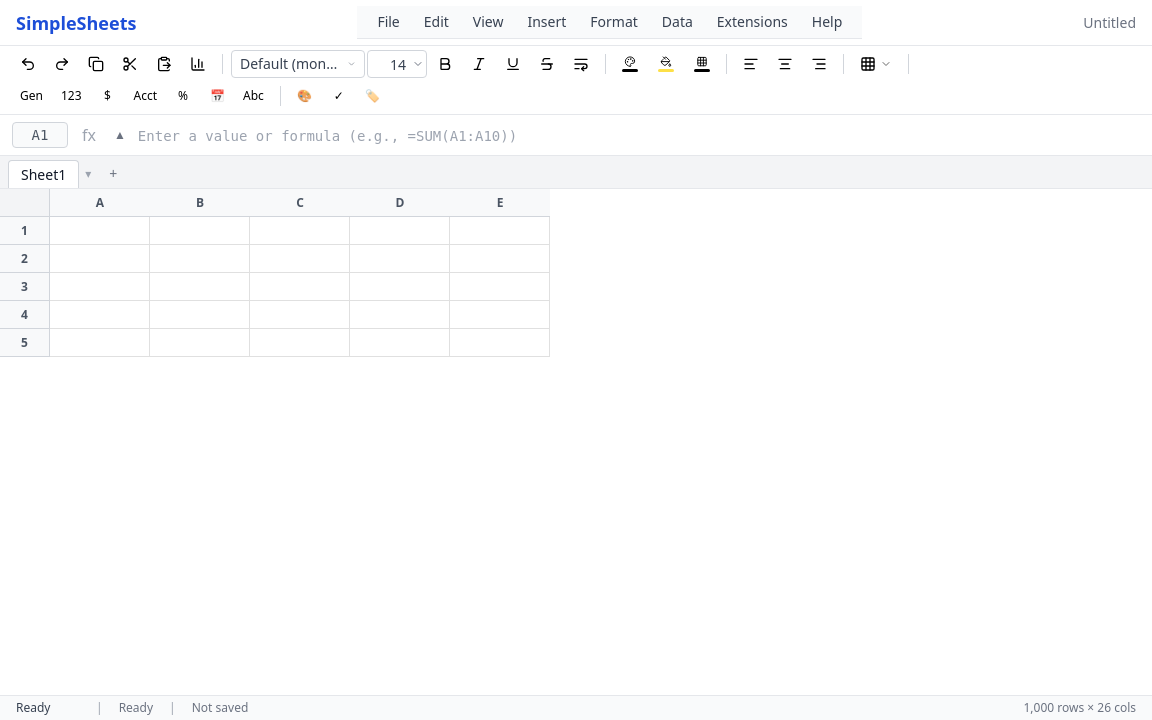
App - External Clipboard Paste › pastes plain text directly when clipboard has no HTML
Note: Select a cell
Press the mouse on the 1st element with class "grid-cell" at (100, 231), box [50,217,150,245]
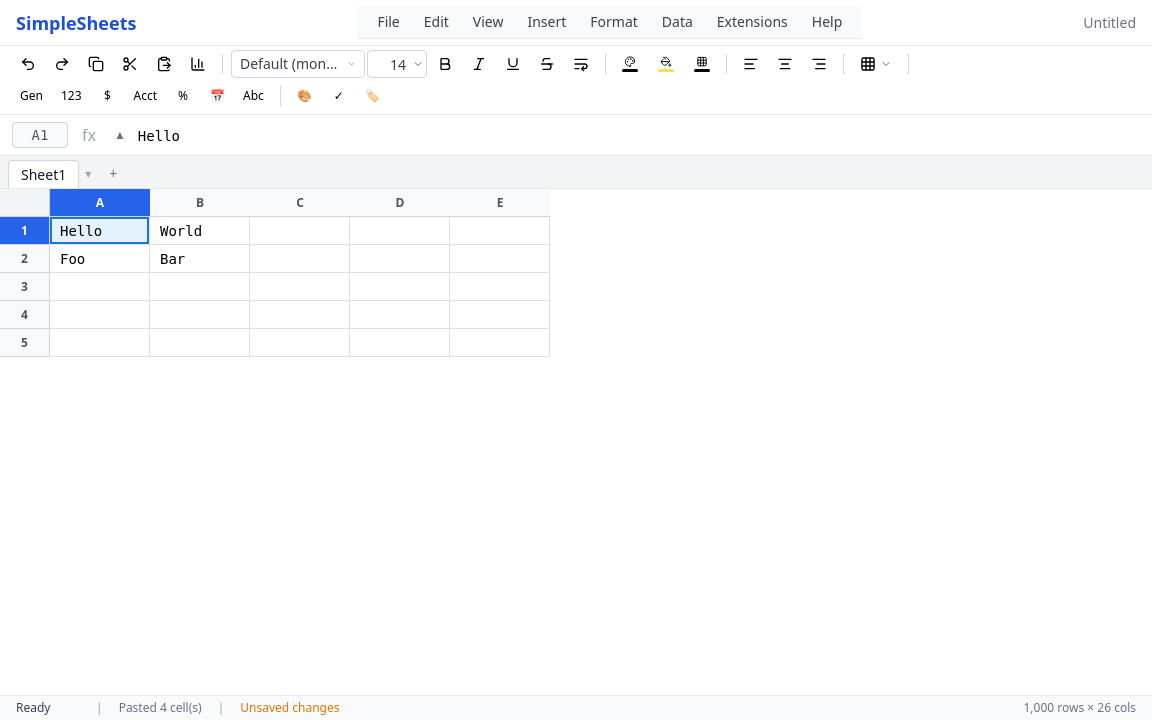
Now the text with test id "status-message" shows "Pasted", box [119,699,202,716]
